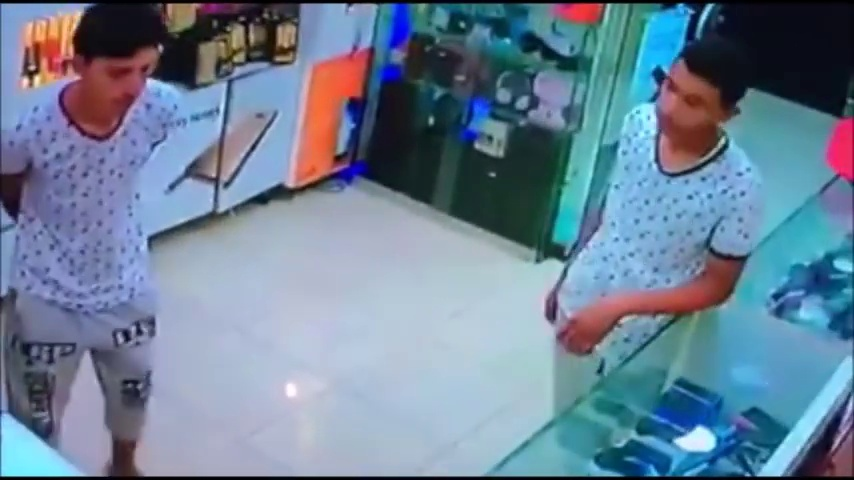face: (651, 68, 711, 145), (75, 57, 148, 111)
